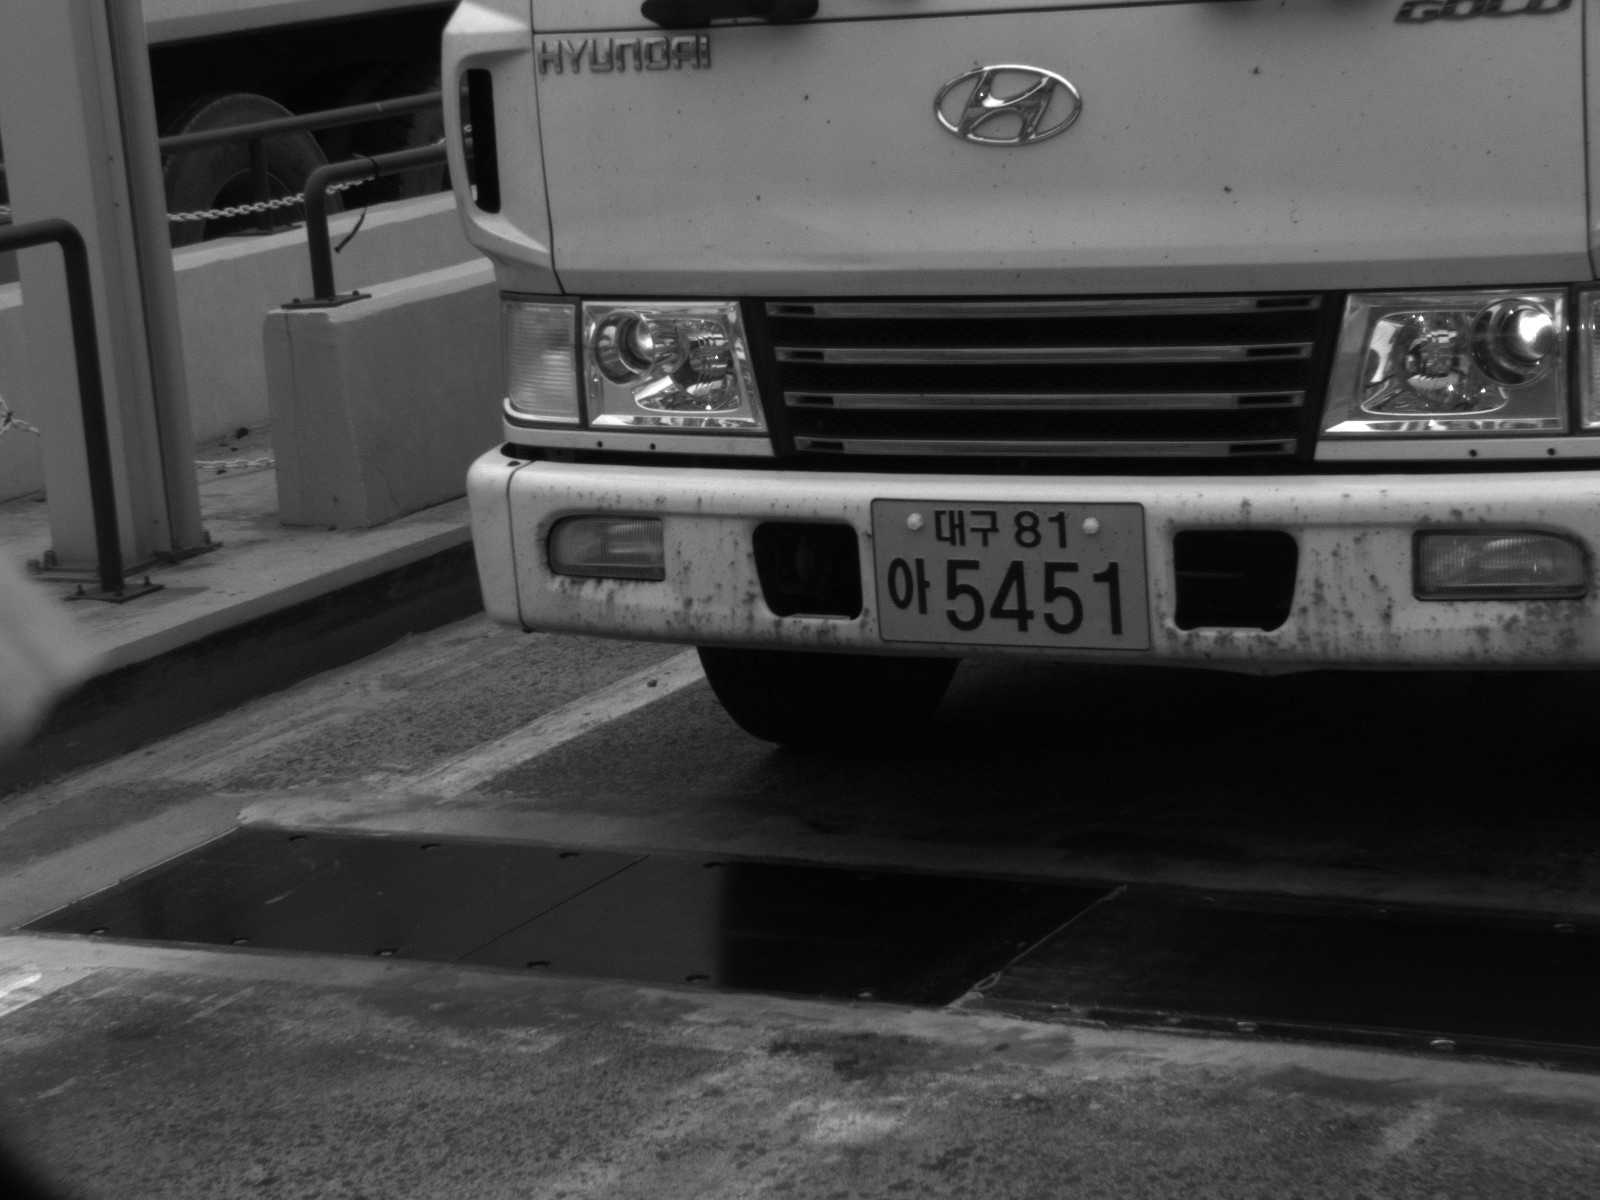car: (435, 1, 1575, 752)
plate: (869, 495, 1155, 655)
